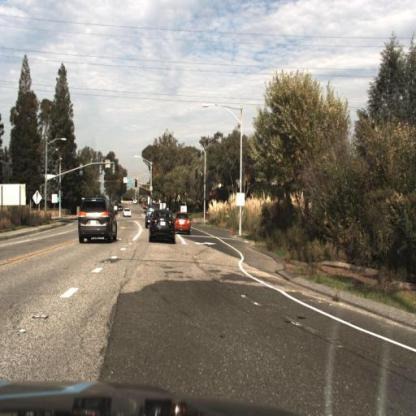car: (78, 198, 122, 248), (149, 207, 178, 246), (142, 203, 155, 232), (178, 214, 192, 237), (123, 207, 133, 219)
